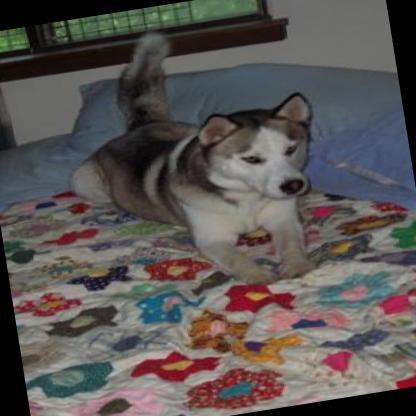Siberian_husky: (44, 9, 334, 314)
